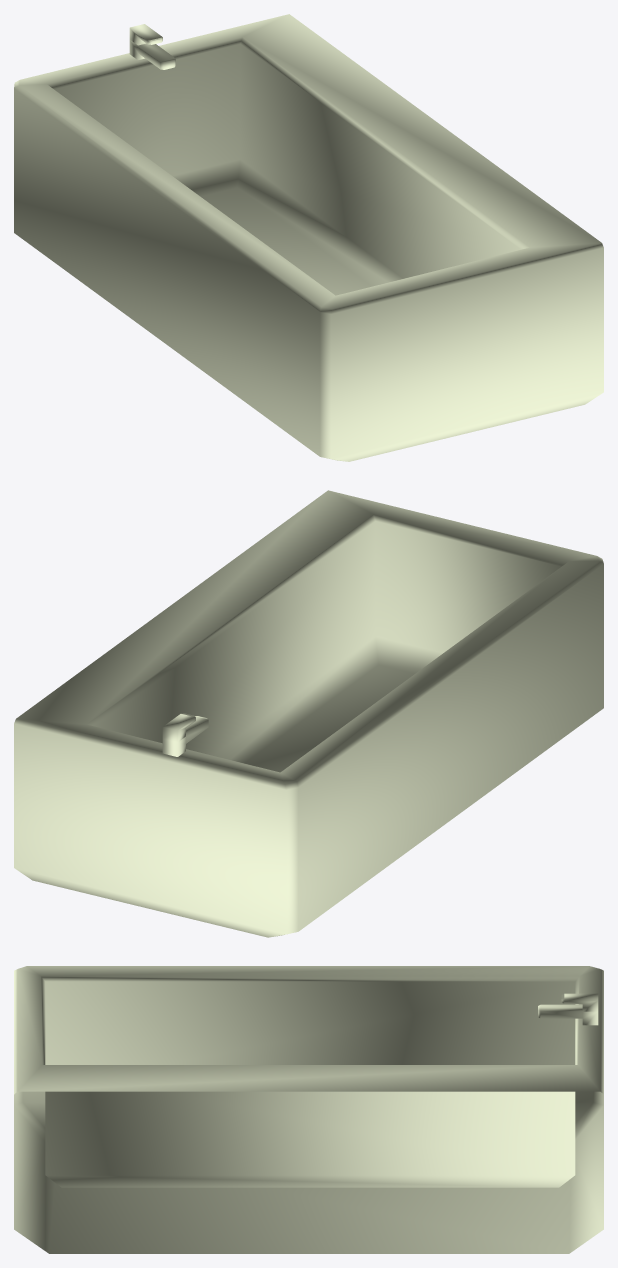
Rendered from cotf_bath.FBX.
3 renders of one model, top to bottom at view 1: azimuth 30°, elevation 25°; view 2: azimuth 150°, elevation 25°; view 3: azimuth 270°, elevation 25°, orthographic. The views are drawn at different scales.
Parts seen in each view (by area): view 1: cotf_bath; view 2: cotf_bath; view 3: cotf_bath.
Part boxes in pixels (x1=…): cotf_bath: x1=14, y1=14, x2=603, y2=461; cotf_bath: x1=14, y1=490, x2=603, y2=937; cotf_bath: x1=14, y1=966, x2=603, y2=1253.
Bounding box in the file's own units: 1.28 × 0.879 × 2.51.
